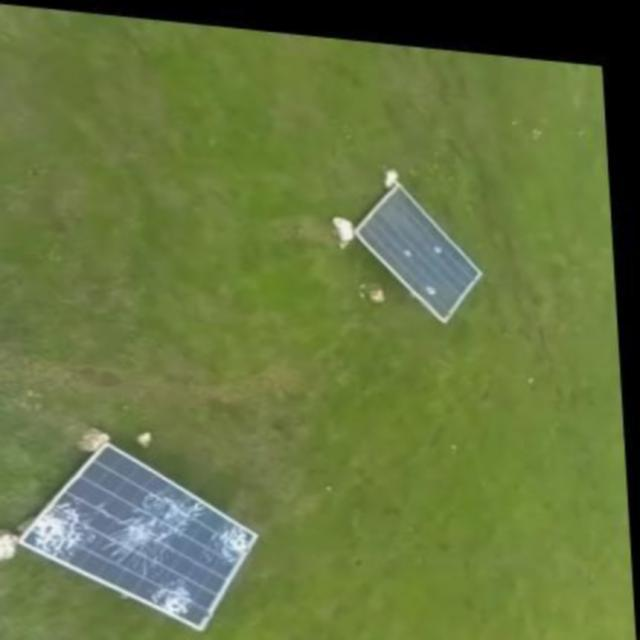cracked: (22, 445, 268, 628)
soiled: (348, 184, 488, 324)
